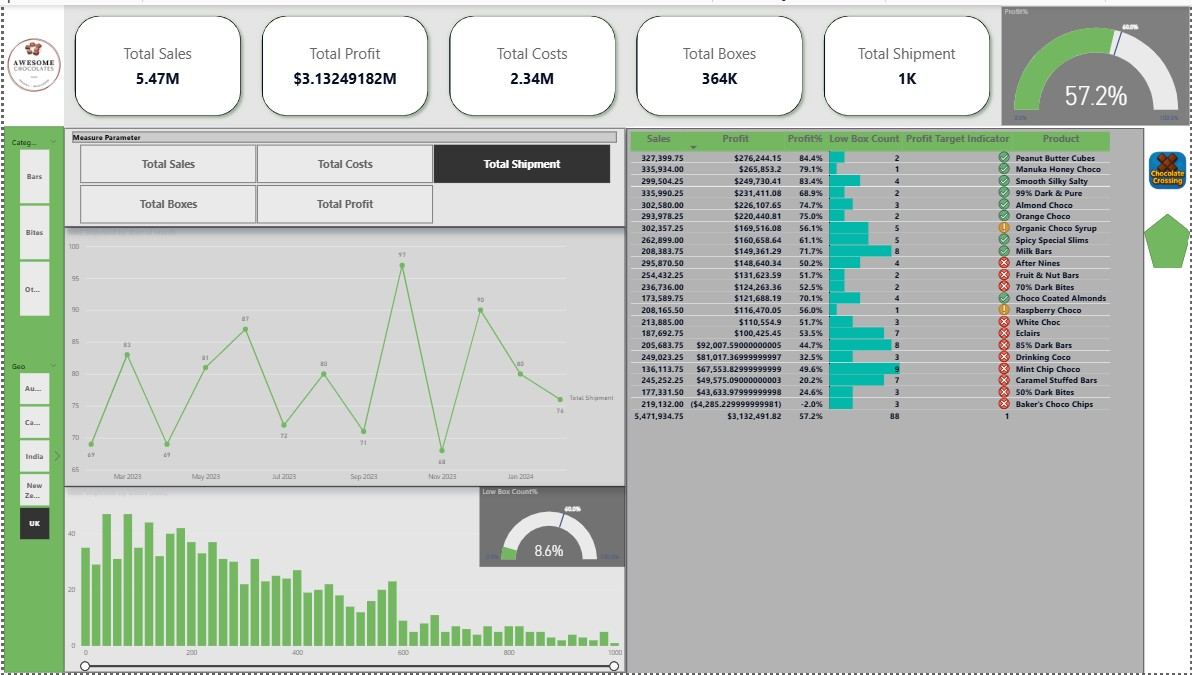

What the dashboard file says about the page in this screenshot:
{"tool":"powerbi","page":{"name":"Page 3","canvas":[1920,1080],"ordinal":2},"visuals":[{"type":"cardVisual","fields":{"Data":["_Measure.Total Sales","_Measure.Total Profit","_Measure.Total Costs","_Measure.Total Boxes","_Measure.Total Shipment"]},"box":[97.1,0,1516.9,196.6],"z":0},{"type":"gauge","fields":{"Y":["_Measure.Profit%"]},"box":[1614.2,2.8,305.8,192.6],"z":1000},{"type":"image","box":[0,0,97.1,194.2],"z":2000},{"type":"lineChart","fields":{"Y":["_Measure.Total Shipment"],"Category":["calendar.Start of Month"]},"box":[97.1,359.2,907.7,419.9],"z":3000},{"type":"slicer","fields":{"Values":["Measure Parameter.Measure Parameter"]},"box":[97.1,199,907.7,160.2],"z":4000},{"type":"columnChart","fields":{"Category":["shipments.Boxes (bins)"],"Y":["_Measure.Total Shipment"]},"box":[97.1,779.1,907.7,300.9],"z":5000},{"type":"gauge","fields":{"Y":["_Measure.Low Box Count%"]},"box":[770.3,778.8,235,130.3],"z":6000},{"type":"tableEx","fields":{"Values":["people.Sales person","people.Picture","_Measure.Total Sales","_Measure.Total Profit","_Measure.Profit%","_Measure.Low Box Count","_Measure.Profit Target Indicator"]},"box":[1022.1,237.7,594.2,843.8],"z":7000},{"type":"tableEx","fields":{"Values":["_Measure.Total Sales","_Measure.Total Profit","_Measure.Profit%","_Measure.Low Box Count","_Measure.Profit Target Indicator","products.Product"]},"box":[1007.2,199,837.3,883.4],"z":8000},{"type":"image","title":"Sales Details","box":[1843.5,195.4,76.5,141.6],"z":9000},{"type":"shape","title":"Product Details","box":[1843.5,337,76.5,87.8],"z":10000},{"type":"shape","box":[0,196.6,97.1,883.4],"z":10001},{"type":"slicer","fields":{"Values":["products.Category"]},"box":[0,208.7,97.1,300.9],"z":10002},{"type":"slicer","fields":{"Values":["locations.Geo"]},"box":[0,570.3,97.1,300.9],"z":10003}]}

Visuals, with their boxes in screenshot pixels (x1, y1, x2, y2), scaled from the page's 1920x1080 canvas onto the 1192x675 screenshot:
cardVisual - _Measure.Total Sales x _Measure.Total Profit: bbox=[60, 0, 1002, 123]
gauge - _Measure.Profit%: bbox=[1002, 2, 1191, 122]
image: bbox=[0, 0, 60, 121]
lineChart - _Measure.Total Shipment x calendar.Start of Month: bbox=[60, 224, 624, 487]
slicer - Measure Parameter.Measure Parameter: bbox=[60, 124, 624, 224]
columnChart - shipments.Boxes (bins) x _Measure.Total Shipment: bbox=[60, 487, 624, 674]
gauge - _Measure.Low Box Count%: bbox=[478, 487, 624, 568]
tableEx - people.Sales person x people.Picture: bbox=[635, 149, 1003, 674]
tableEx - _Measure.Total Sales x _Measure.Total Profit: bbox=[625, 124, 1145, 674]
"Sales Details" image: bbox=[1145, 122, 1191, 211]
"Product Details" shape: bbox=[1145, 211, 1191, 266]
shape: bbox=[0, 123, 60, 674]
slicer - products.Category: bbox=[0, 130, 60, 318]
slicer - locations.Geo: bbox=[0, 356, 60, 544]
